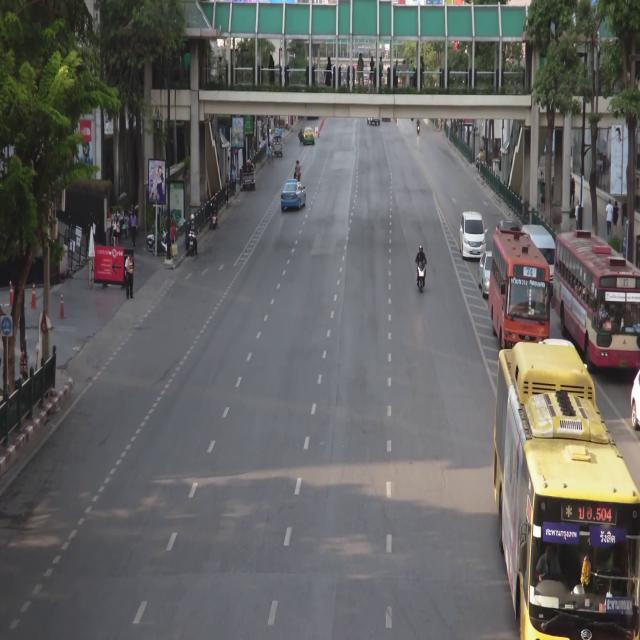bus: (498, 346, 640, 640), (554, 230, 640, 373), (492, 229, 547, 350)
car: (523, 222, 555, 288), (462, 209, 487, 258), (631, 364, 640, 444), (479, 250, 492, 296), (495, 218, 522, 233), (242, 163, 255, 192), (273, 136, 283, 157)
pedestrian: (125, 251, 134, 302), (606, 199, 612, 240), (112, 214, 119, 246), (131, 208, 136, 249), (613, 200, 618, 234), (571, 171, 576, 205), (623, 199, 628, 229), (541, 182, 545, 212), (232, 167, 236, 191), (268, 144, 272, 166), (576, 197, 579, 226), (226, 175, 229, 203), (551, 175, 554, 201), (259, 141, 261, 149)
taxi: (281, 180, 306, 209), (303, 127, 315, 145)
